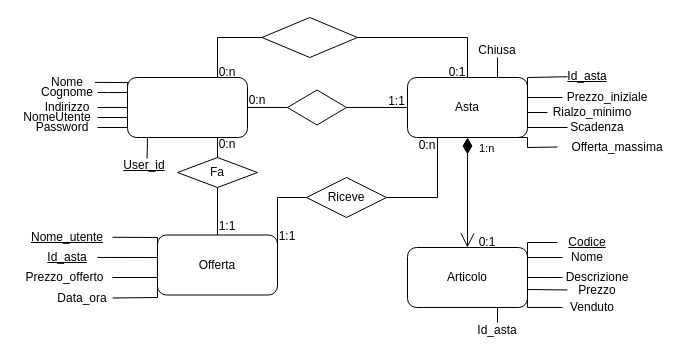
The diagram is 694 pixels wide and 355 high, and some of its shapes have lost their labels. Each missing label, with the box of its shape:
Acquista: (261, 16, 358, 58)
Crea: (286, 89, 346, 125)
Utente: (126, 76, 248, 138)
